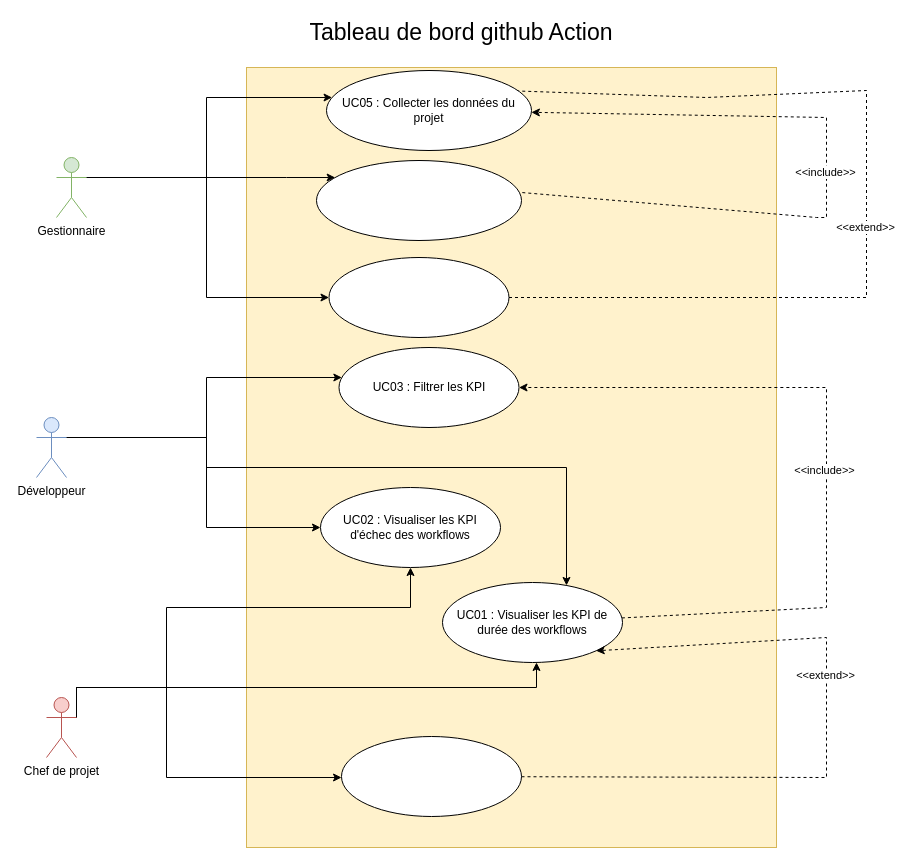
The diagram is 911 pixels wide and 865 high, and some of its shapes have lost their labels. The shapes that lost their labels are listed below. From the top down, each one's box as (x1, y1, x2, y2) in pixels, then its label:
(316, 160, 522, 240): UC07 : Gérer la configuration de collecte de données
(328, 256, 509, 338): UC06 : Exporter les données Brutes
(340, 736, 522, 816): UC04 : Exporter les données KPI
